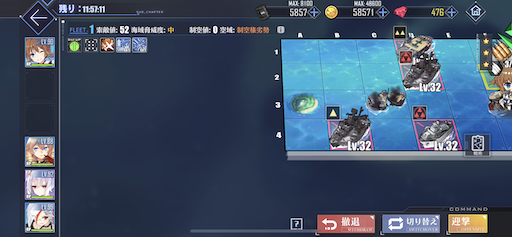lv1: (326, 105, 372, 152)
lv3: (412, 107, 461, 149), (398, 49, 443, 90)
